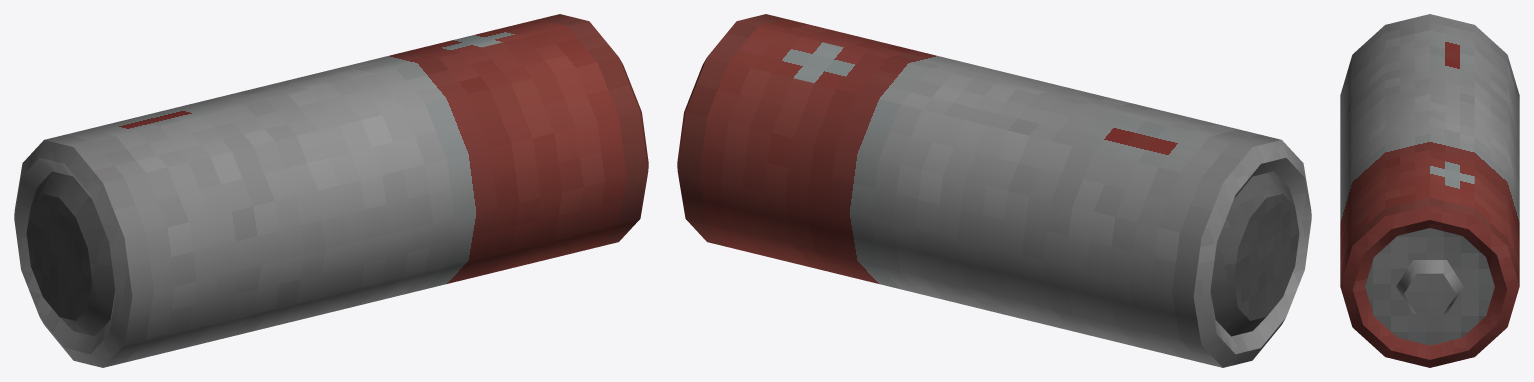
Rendered from battery_mp_1_1.glb.
3 views of the same model, side by side, from view 1: azimuth 30°, elevation 25°; view 2: azimuth 150°, elevation 25°; view 3: azimuth 270°, elevation 25° (orthographic). The views are drawn at different scales.
Visible parts, largest first — view 1: battery_mp_1_1; view 2: battery_mp_1_1; view 3: battery_mp_1_1.
Boxes of the visible parts, x1=… form: battery_mp_1_1: x1=14, y1=14, x2=648, y2=367; battery_mp_1_1: x1=677, y1=14, x2=1311, y2=367; battery_mp_1_1: x1=1340, y1=14, x2=1519, y2=367.
Size of the model in its own units: 0.097 by 0.036 by 0.036.
Materials: 1 (1 with a texture image).
